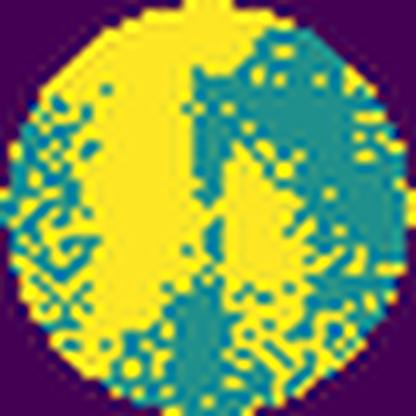Random: (0, 0, 378, 411)
